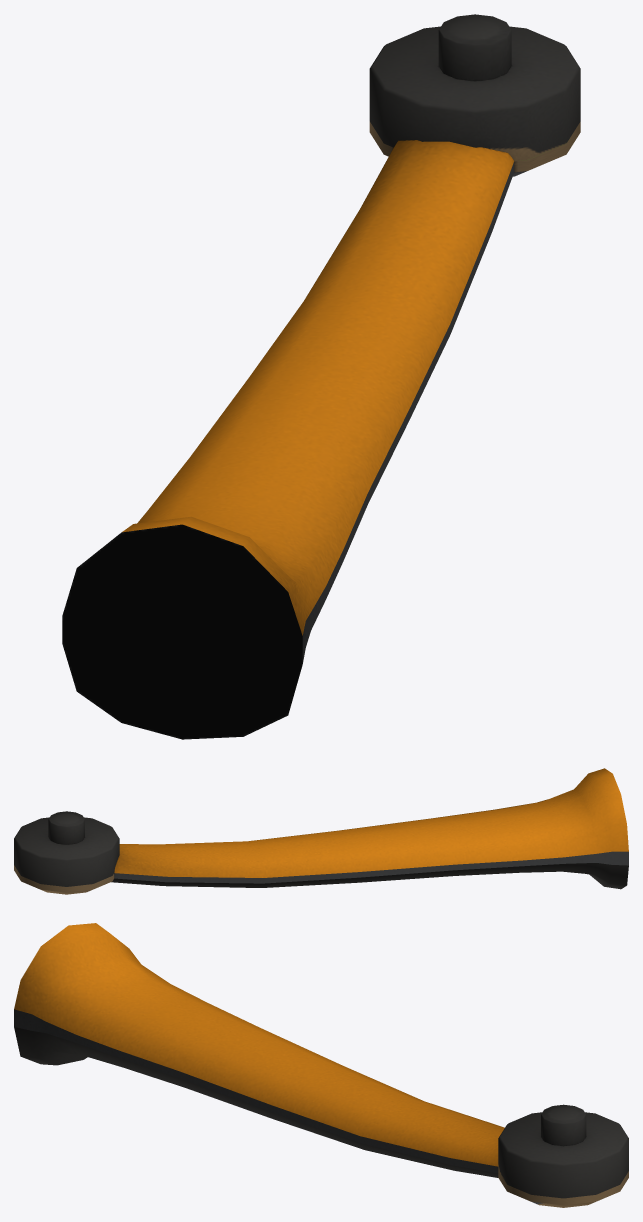
The model's file is Salamandre_BrasAvantG.FBX.
The picture shows the model from 3 angles, top to bottom: view 1: azimuth 30°, elevation 25°; view 2: azimuth 150°, elevation 25°; view 3: azimuth 270°, elevation 25°; orthographic projection. The views are drawn at different scales.
Parts seen in each view (by area): view 1: Salamandre_BrasAvantG; view 2: Salamandre_BrasAvantG; view 3: Salamandre_BrasAvantG.
Boxes of the visible parts, x1=… form: Salamandre_BrasAvantG: x1=62, y1=14, x2=580, y2=739; Salamandre_BrasAvantG: x1=14, y1=768, x2=628, y2=894; Salamandre_BrasAvantG: x1=14, y1=923, x2=628, y2=1207.
Size of the model in its own units: 5.89 by 1.63 by 5.89.
